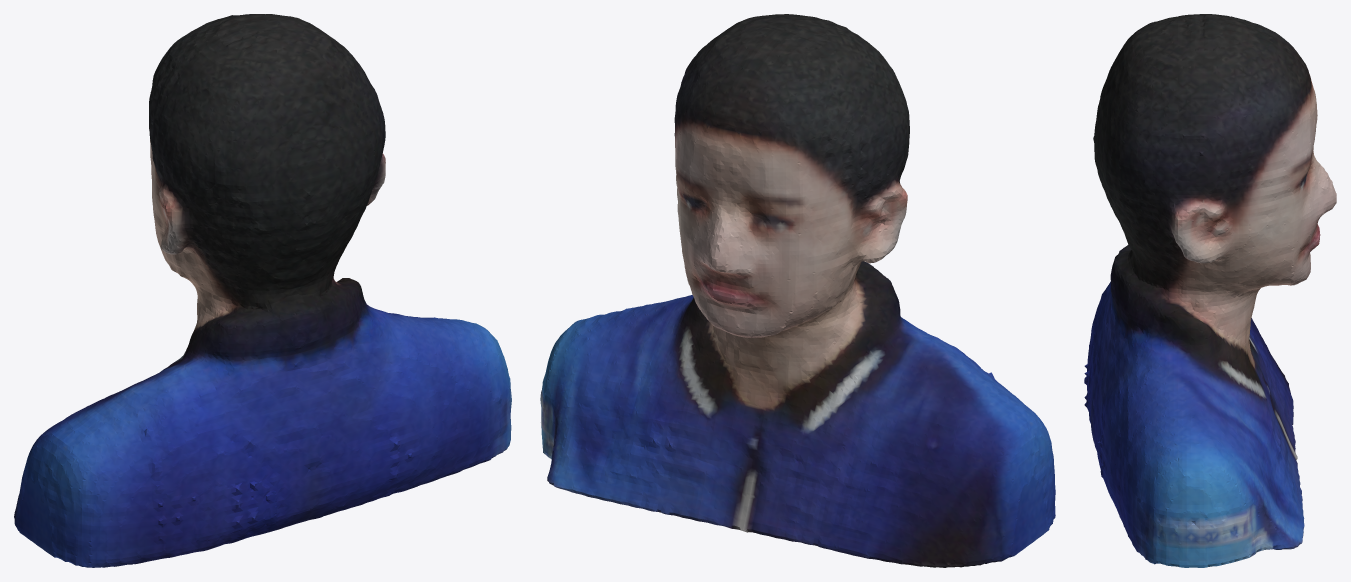
File: tmp68kvobx1.glb
The picture shows the model from 3 angles, left to right: view 1: azimuth 30°, elevation 25°; view 2: azimuth 150°, elevation 25°; view 3: azimuth 270°, elevation 25°; orthographic projection. The views are drawn at different scales.
Parts seen in each view (by area): view 1: world; view 2: world; view 3: world.
Boxes of the visible parts, x1,y1,x2,y2 form: world: [14, 14, 511, 567]; world: [540, 14, 1055, 567]; world: [1084, 14, 1336, 567].
Bounding box in the file's own units: 1.98 × 1.83 × 0.9546.
